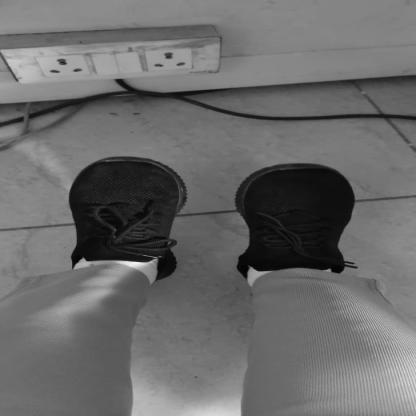ankle: (143, 258, 151, 261), (272, 265, 278, 269)
heel: (246, 275, 251, 278), (160, 276, 165, 278)
left_foot: (70, 158, 188, 282)
pinky: (76, 186, 86, 189), (348, 194, 353, 197)
right_foot: (236, 165, 356, 288)
toe: (170, 176, 176, 180), (260, 177, 267, 180)
